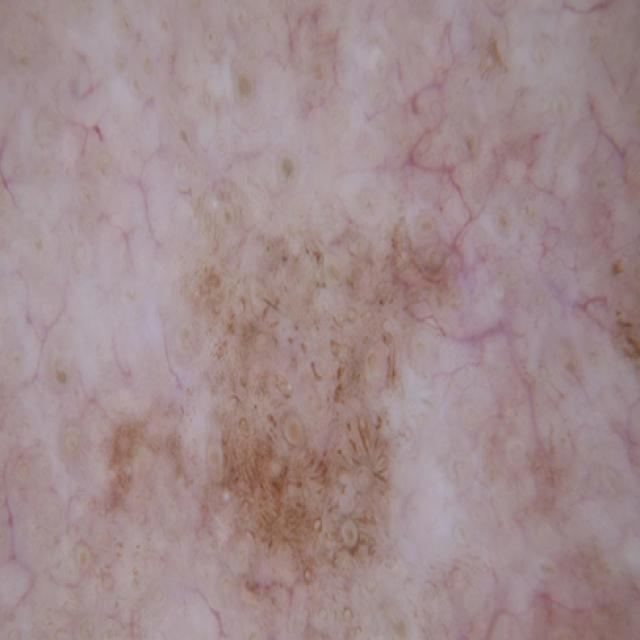Keratosis: (145, 169, 440, 612)
